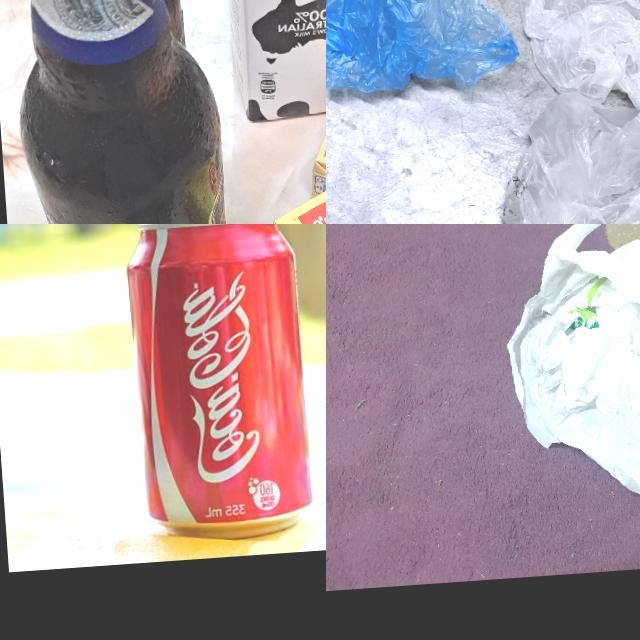caixinha: (225, 0, 326, 124)
garrafa de vidro: (8, 0, 235, 224)
lata: (123, 224, 315, 542)
sacola plástica: (491, 224, 640, 524), (469, 81, 640, 224), (326, 0, 518, 104), (514, 0, 640, 129)
